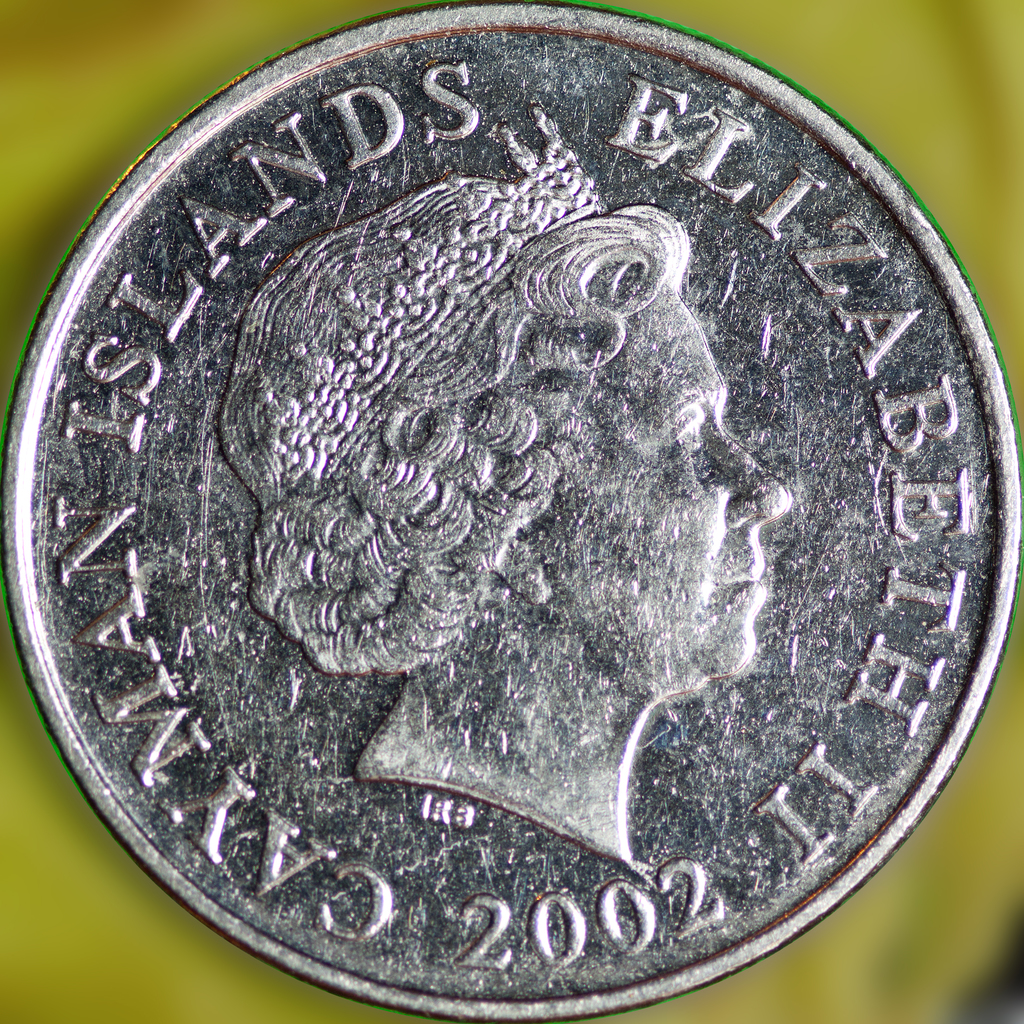Coin: (0, 0, 1023, 1024)
